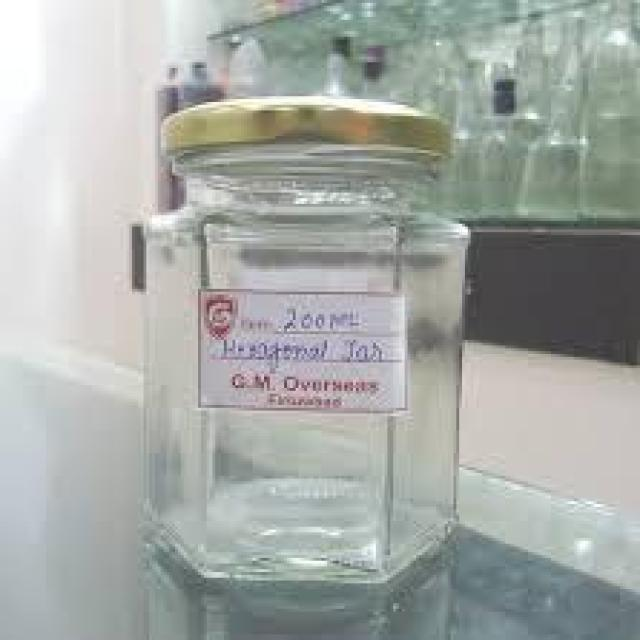Glass: (139, 94, 471, 584)
